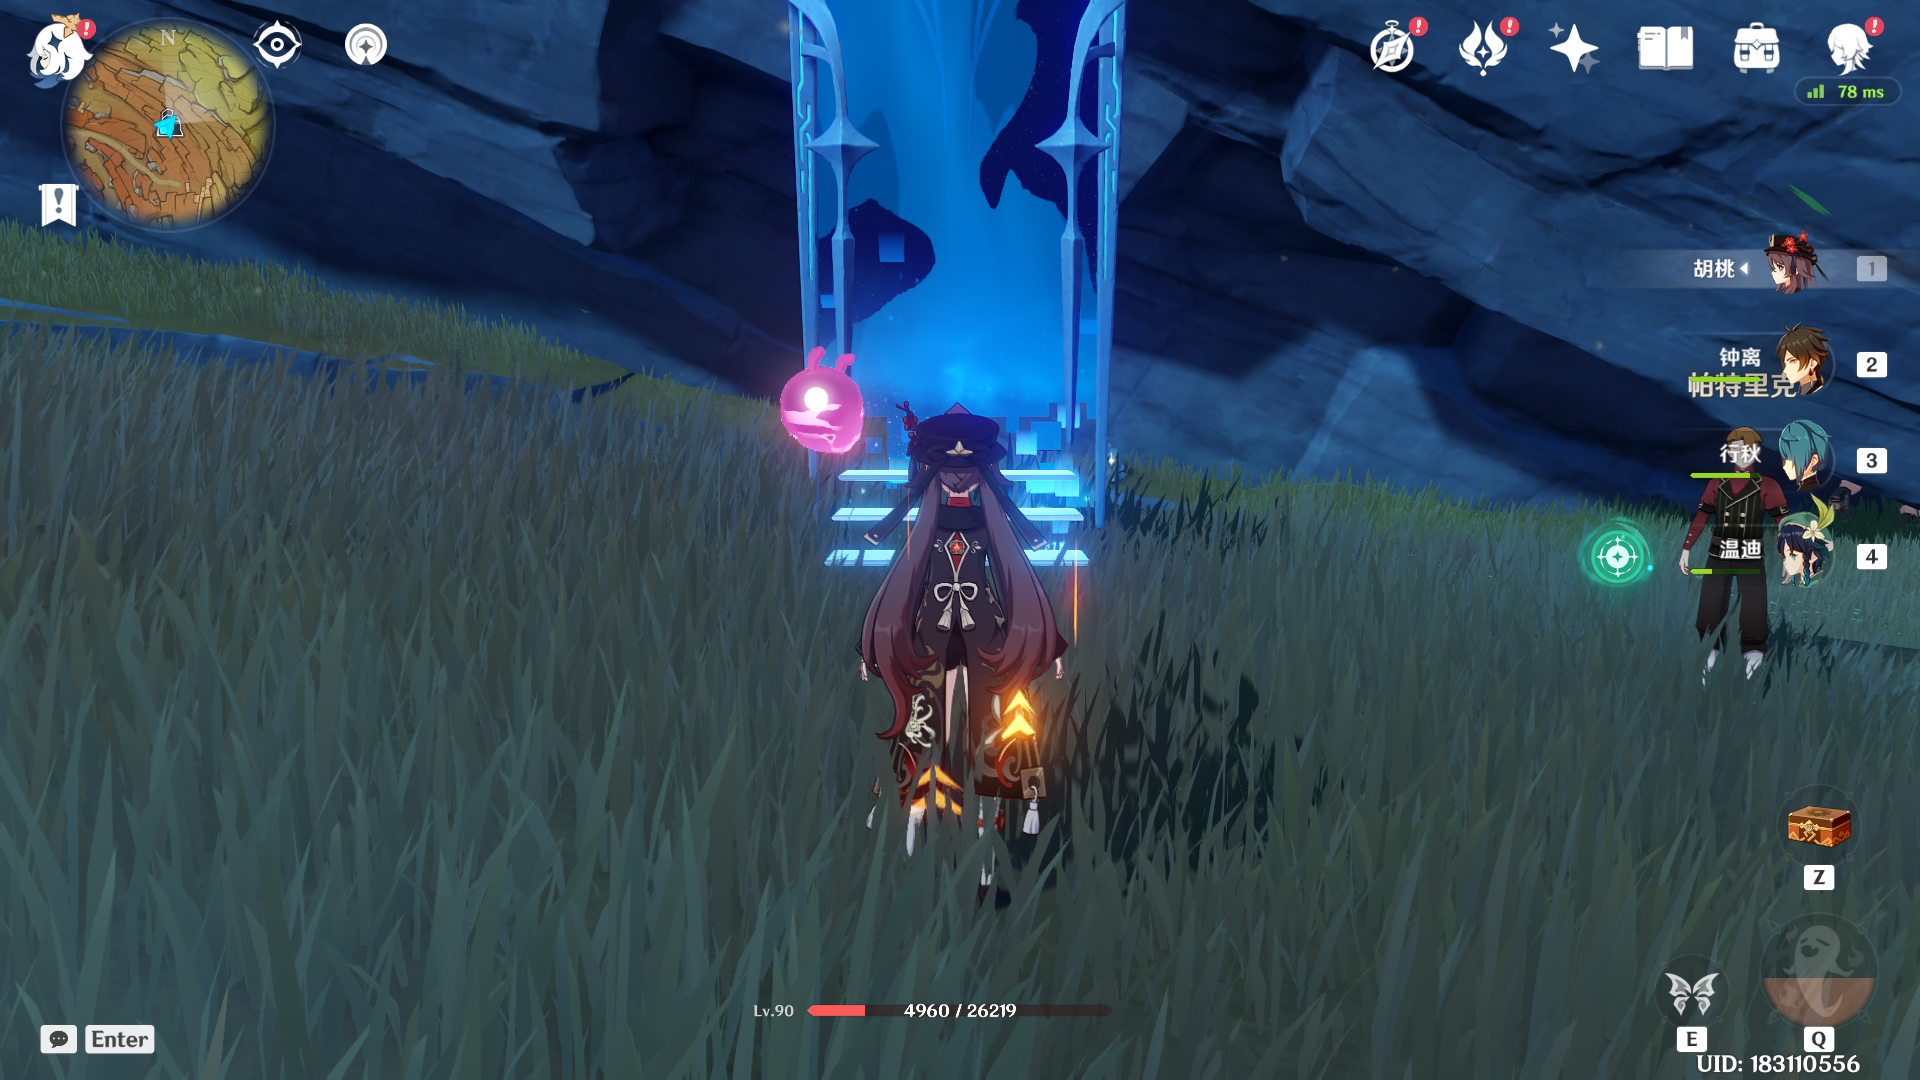character: (807, 377, 1112, 914)
